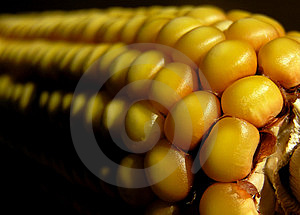corn: (0, 5, 299, 214)
